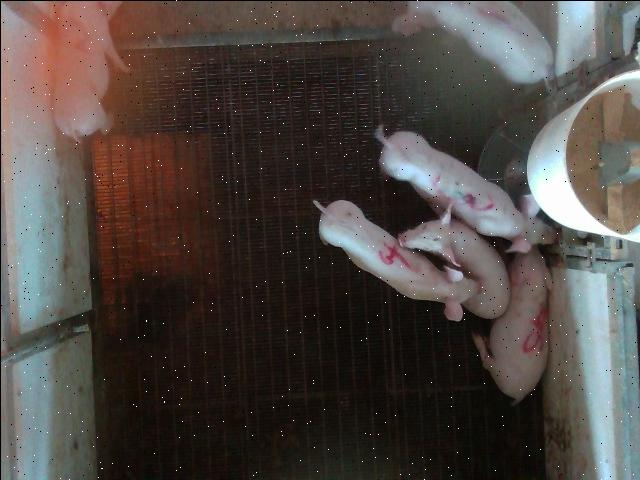pig-1: (409, 2, 550, 82)
pig-2: (52, 1, 126, 140)
pig-3: (375, 126, 554, 251)
pig-4: (312, 199, 476, 320)
pig-5: (471, 246, 551, 404)
